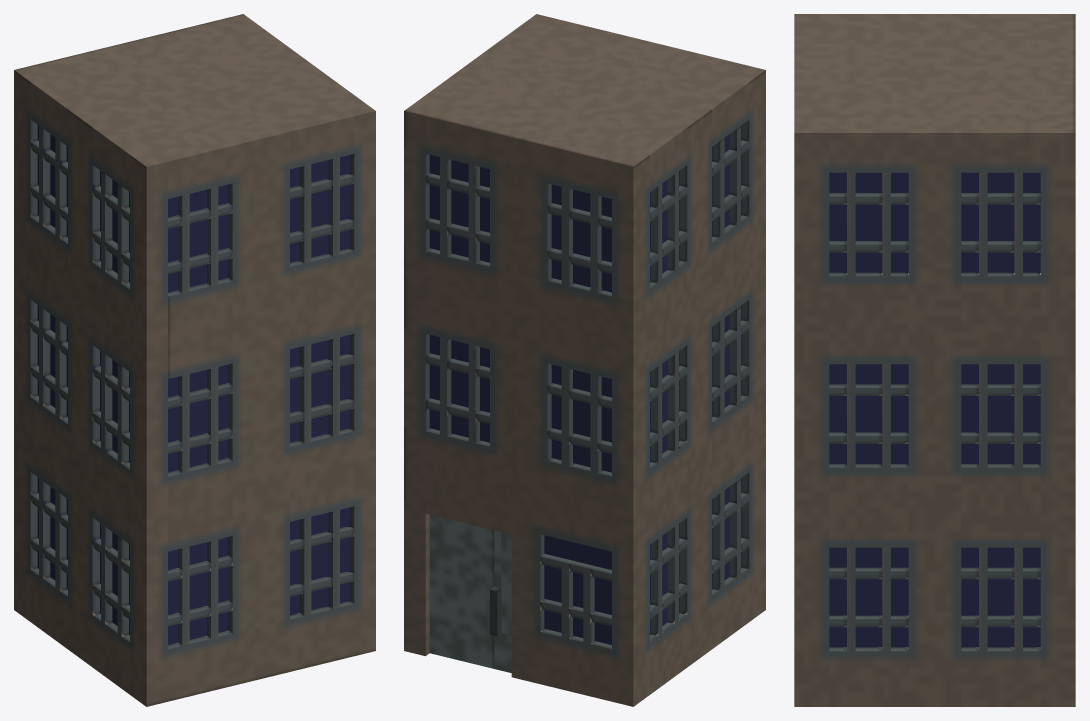
File: budynki_dzielnia_1.dae
The picture shows the model from 3 angles, left to right: view 1: azimuth 30°, elevation 25°; view 2: azimuth 150°, elevation 25°; view 3: azimuth 270°, elevation 25°; orthographic projection. The views are drawn at different scales.
Parts seen in each view (by area): view 1: Content; view 2: Content; view 3: Content.
Boxes of the visible parts, x1,y1,x2,y2 form: Content: (14, 14, 375, 706); Content: (404, 14, 765, 706); Content: (794, 14, 1075, 706).
Size of the model in its own units: 32 by 72 by 32.
1 material, 1 textured.
